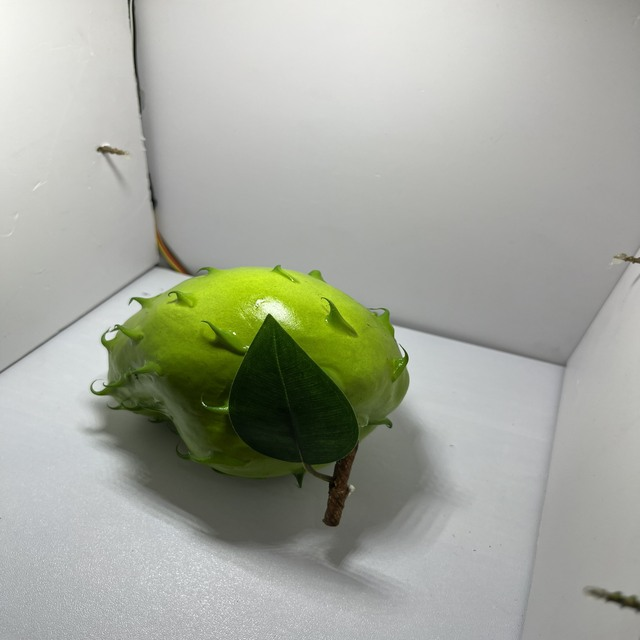Man cau: (86, 255, 417, 492)
